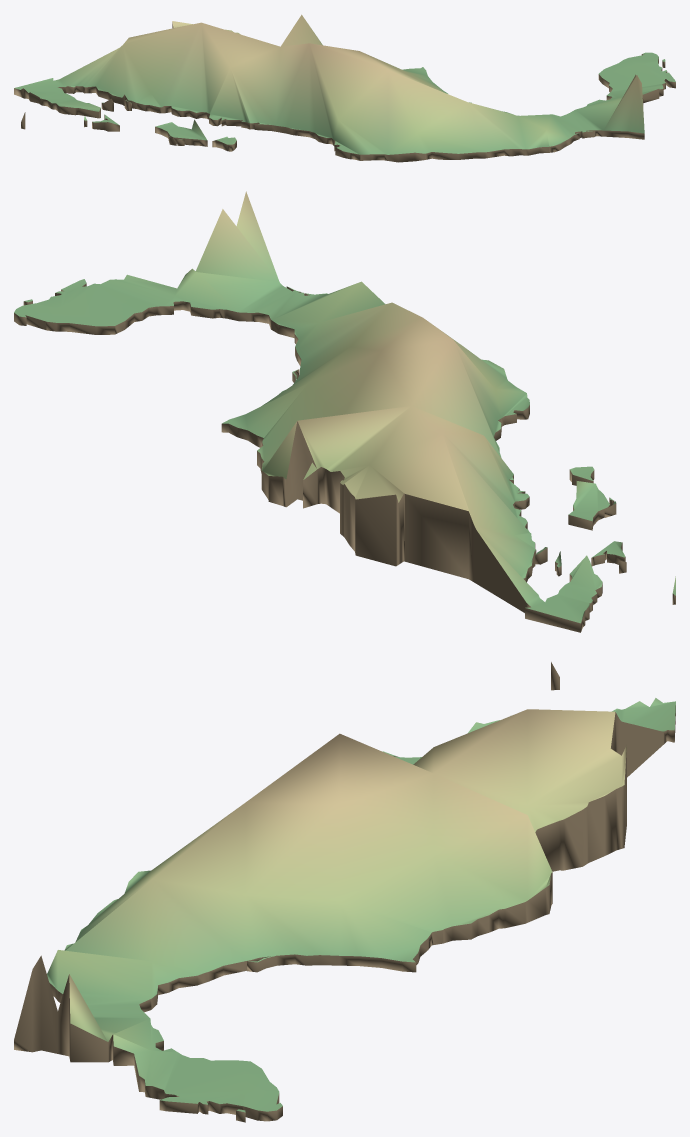
The model's file is MEX.glb.
The picture shows the model from 3 angles, top to bottom: view 1: azimuth 30°, elevation 25°; view 2: azimuth 150°, elevation 25°; view 3: azimuth 270°, elevation 25°; orthographic projection. The views are drawn at different scales.
Parts seen in each view (by area): view 1: MEX; view 2: MEX; view 3: MEX.
Part boxes in pixels (x1=…): MEX: x1=14, y1=14, x2=675, y2=162; MEX: x1=14, y1=191, x2=675, y2=632; MEX: x1=14, y1=662, x2=675, y2=1122.
Bounding box in the file's own units: 1.71 × 0.2392 × 1.1.
